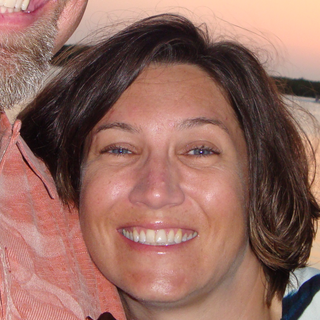eye: (176, 140, 223, 164), (99, 139, 142, 163)
